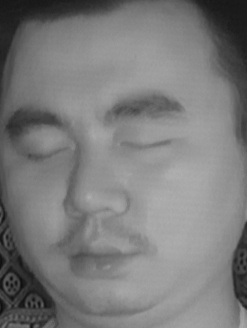blink: (121, 124, 175, 161), (17, 132, 69, 169)
mouth: (51, 225, 142, 282)
